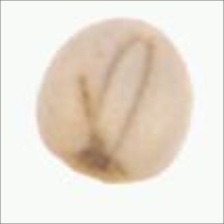L5: (93, 31, 157, 154), (74, 134, 134, 187)
L6: (29, 14, 197, 188)
